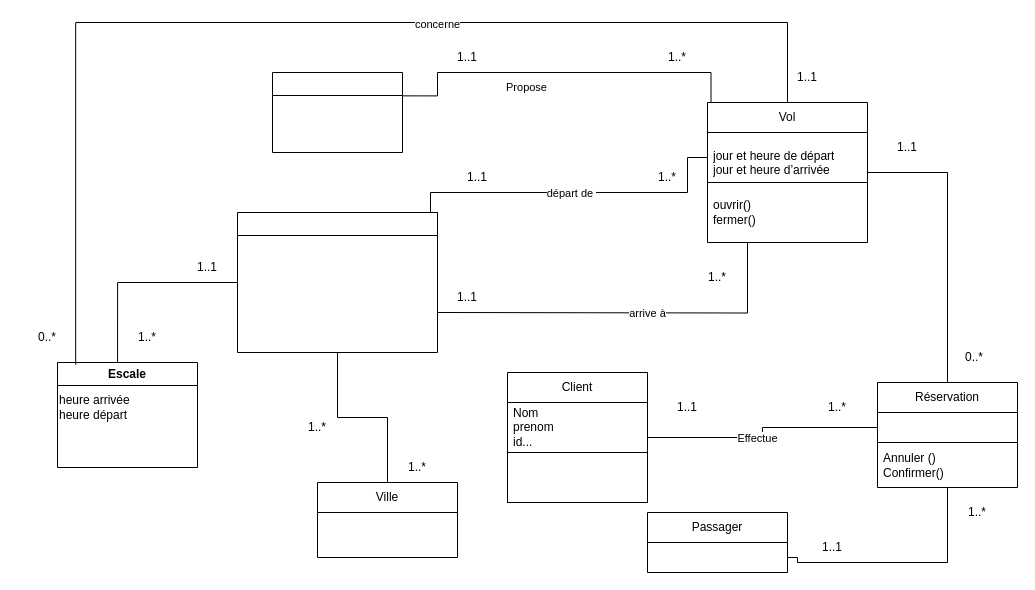
This 1035x590 diagram has some shape labels left out. Here are the shapes that lost their labels. From the top down, the centre of each, then its label:
At pixel 337 112: "Compagnie aerienne".
At pixel 337 282: "Aéroport".
At pixel 577 477: "réserve()".
